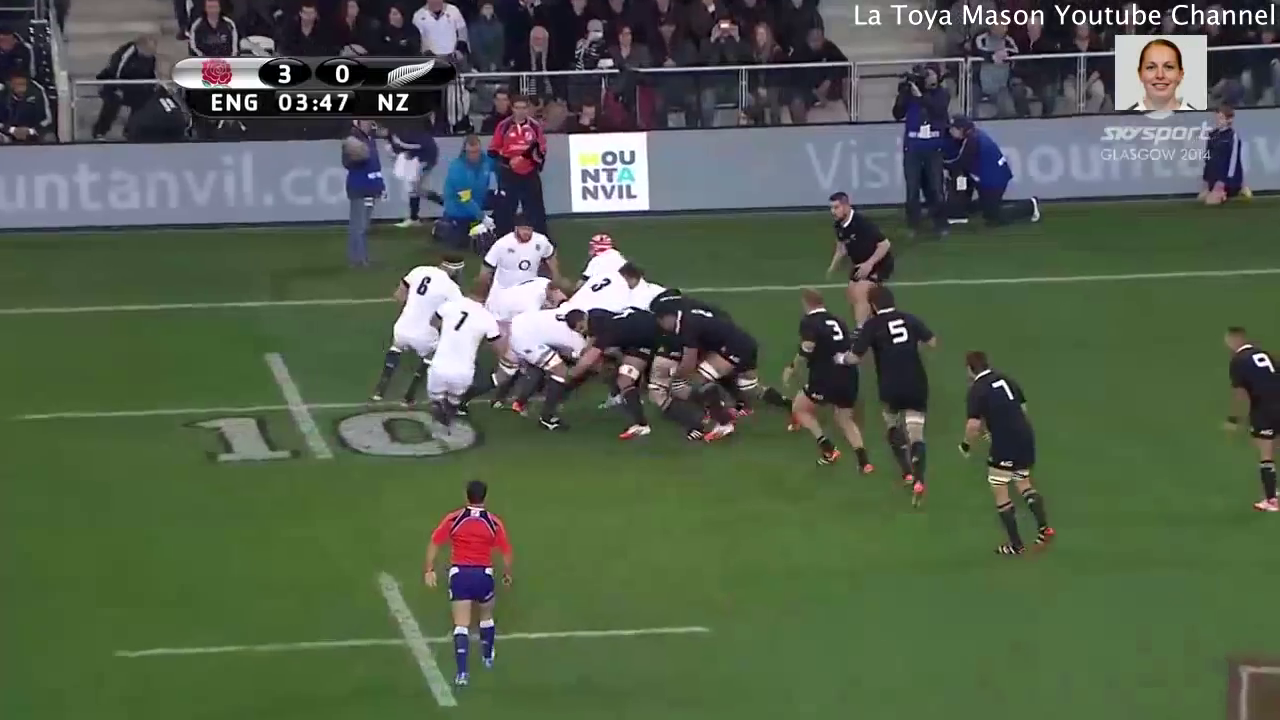10_metre: (79, 560, 725, 719), (1, 344, 612, 484)
player: (829, 278, 953, 512), (947, 337, 1062, 566), (411, 458, 517, 688), (447, 300, 616, 437), (774, 279, 881, 480), (648, 303, 801, 436), (362, 244, 472, 410), (1209, 308, 1280, 528), (561, 297, 665, 445), (413, 267, 495, 447), (818, 173, 907, 337), (455, 255, 576, 343), (469, 212, 570, 290), (561, 235, 661, 312)
